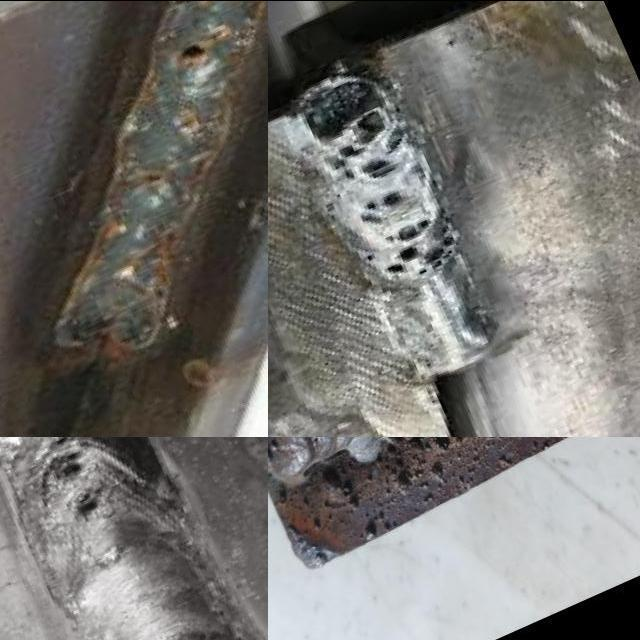defect: (294, 69, 417, 189), (375, 208, 462, 286), (32, 436, 94, 489), (61, 479, 115, 524), (355, 186, 409, 229), (175, 38, 208, 62)
